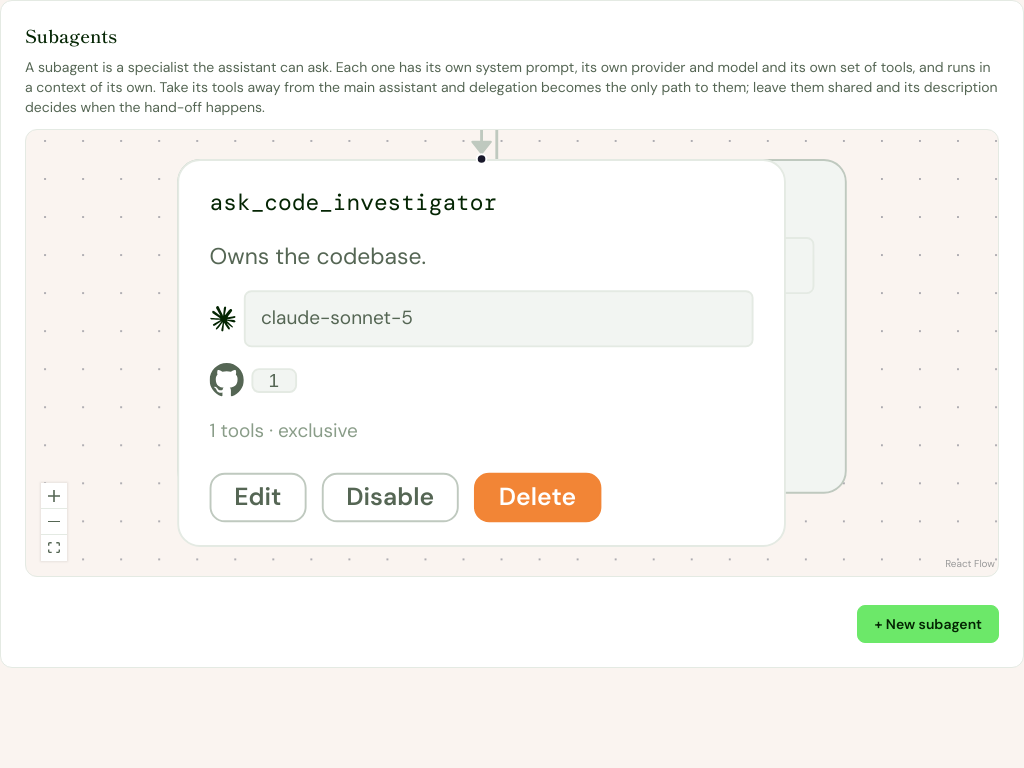
Test case: AdminSubagents › opens the form prefilled for an existing subagent
Click the button "Edit".
click(258, 498)  # box [210,473,306,522]
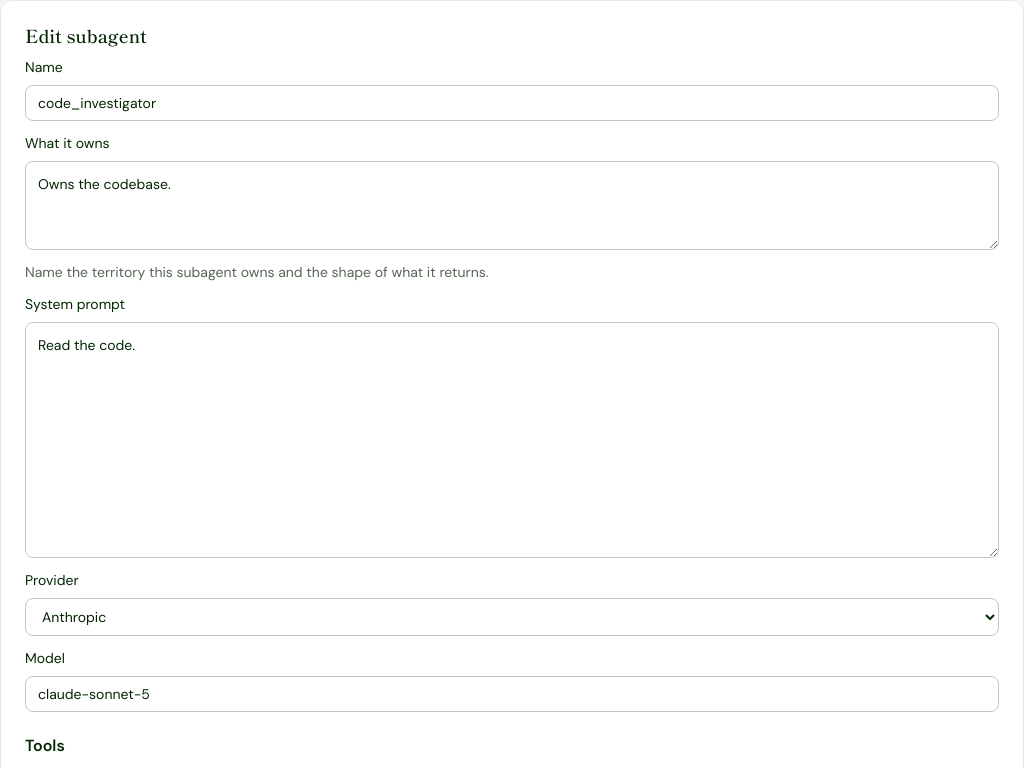
Expected: the heading "Edit subagent" is shown, [25,22,147,48]
Expected: the field labelled "Name" holds "code_investigator", [25,85,999,121]
